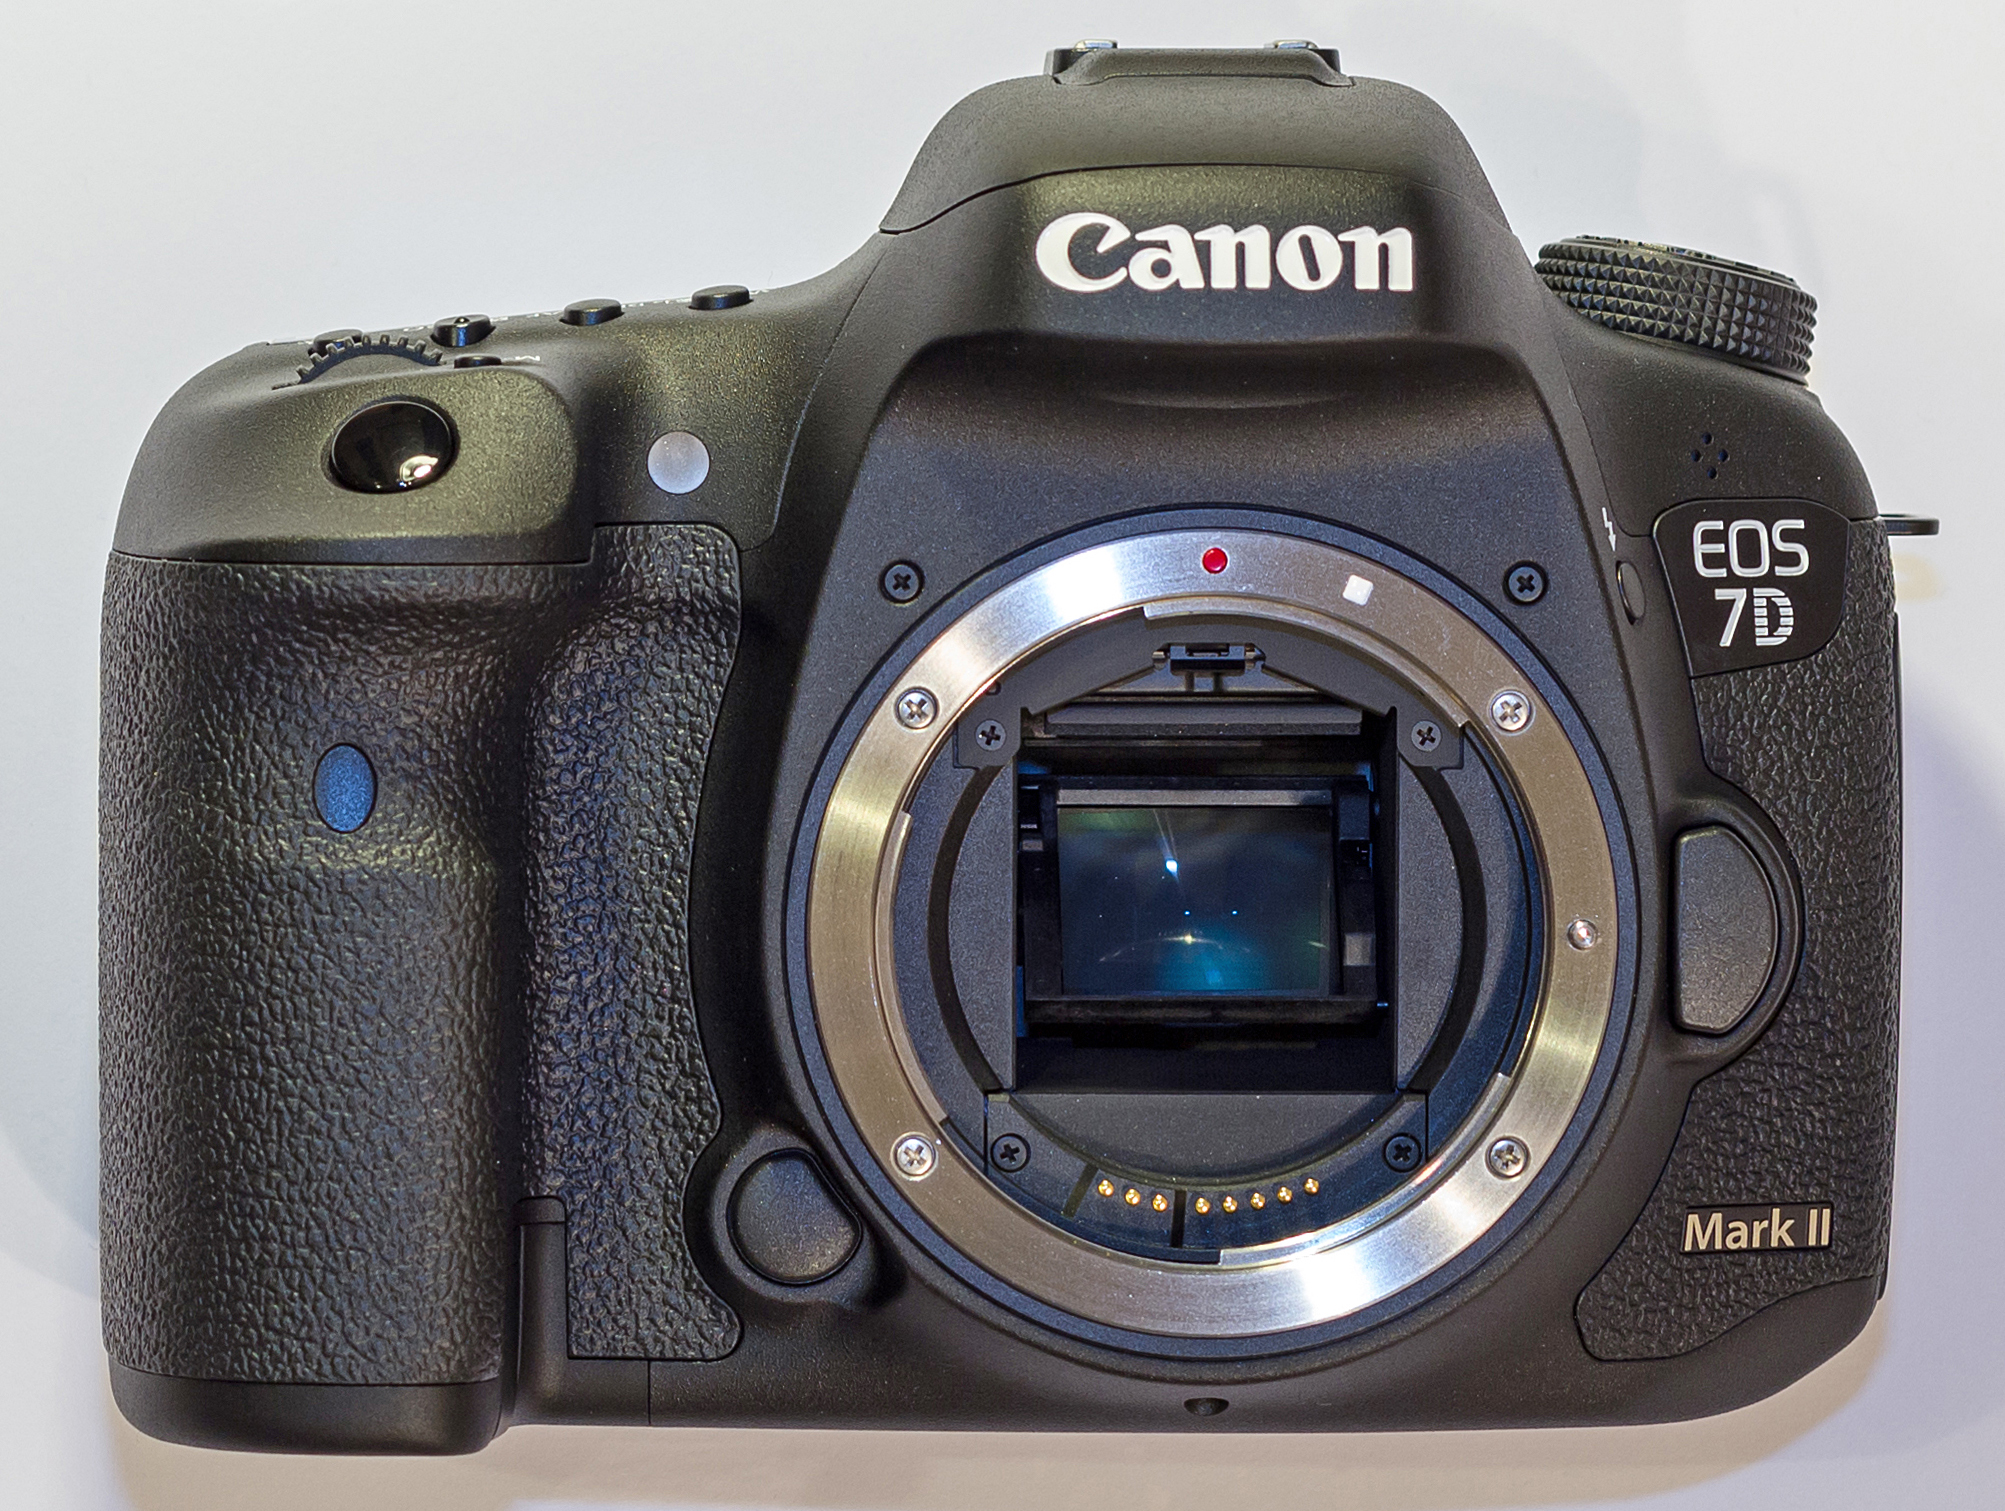camera: (113, 94, 441, 300)
